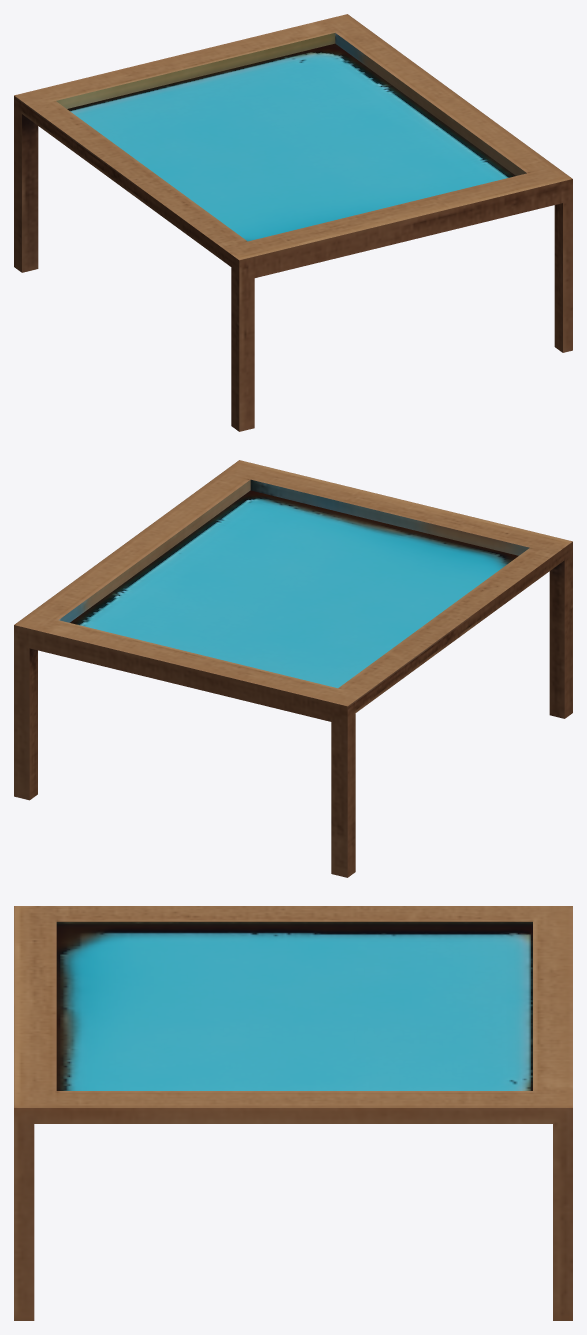
3 renders of one model, top to bottom at view 1: azimuth 30°, elevation 25°; view 2: azimuth 150°, elevation 25°; view 3: azimuth 270°, elevation 25°, orthographic. The views are drawn at different scales.
Parts seen in each view (by area): view 1: Node; view 2: Node; view 3: Node.
Part boxes in pixels (x1,y1,x2,y2): Node: (14, 14, 572, 431); Node: (14, 460, 572, 877); Node: (14, 906, 572, 1320).
Size of the model in its own units: 0.5983 by 0.294 by 0.7.
Materials: 1 (1 with a texture image).
